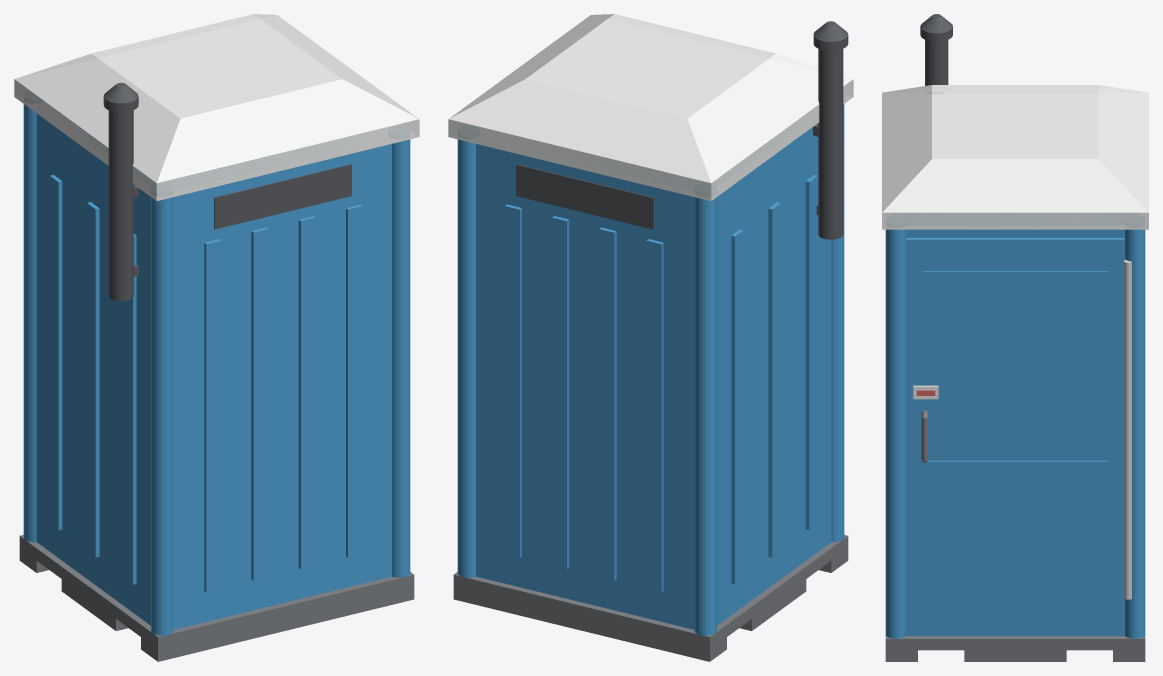
File: Portable_Toilet.glb
3 renders of one model, left to right at view 1: azimuth 30°, elevation 25°; view 2: azimuth 150°, elevation 25°; view 3: azimuth 270°, elevation 25°, orthographic. The views are drawn at different scales.
Visible parts, largest first — view 1: shell, roof, base, vent_stack, vents; view 2: shell, roof, base, vent_stack, vents; view 3: shell, roof, base, hinge, vent_stack.
Boxes of the visible parts, left/top/right/bottom form: shell: left=23, top=104, right=410, bottom=635; roof: left=14, top=14, right=419, bottom=200; base: left=19, top=535, right=414, bottom=661; vent_stack: left=103, top=82, right=138, bottom=301; vents: left=214, top=164, right=351, bottom=229; shell: left=457, top=104, right=844, bottom=635; roof: left=448, top=14, right=853, bottom=200; base: left=453, top=535, right=848, bottom=661; vent_stack: left=813, top=21, right=848, bottom=239; vents: left=516, top=164, right=653, bottom=229; shell: left=885, top=229, right=1145, bottom=638; roof: left=882, top=85, right=1148, bottom=229; base: left=885, top=635, right=1145, bottom=661; hinge: left=1124, top=259, right=1131, bottom=599; vent_stack: left=920, top=14, right=952, bottom=85.
Bounding box in the file's own units: 1.36 × 2.49 × 1.15.
